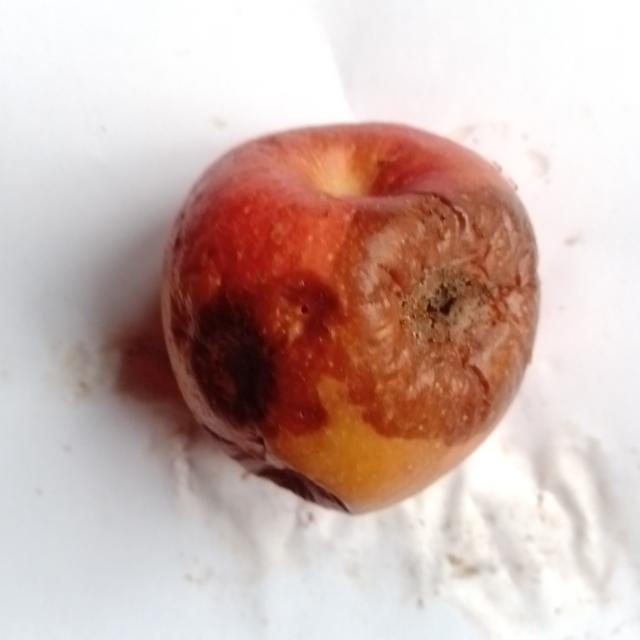apple: (163, 124, 538, 512)
